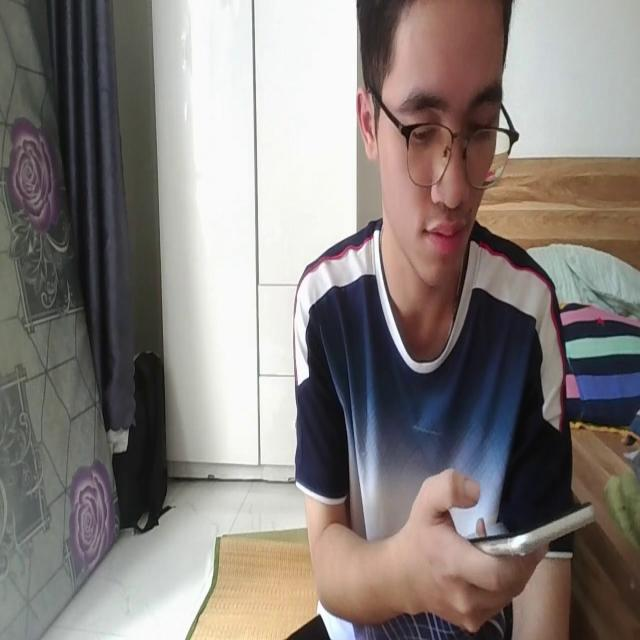phone: (454, 488, 596, 568)
student: (289, 0, 591, 640)
